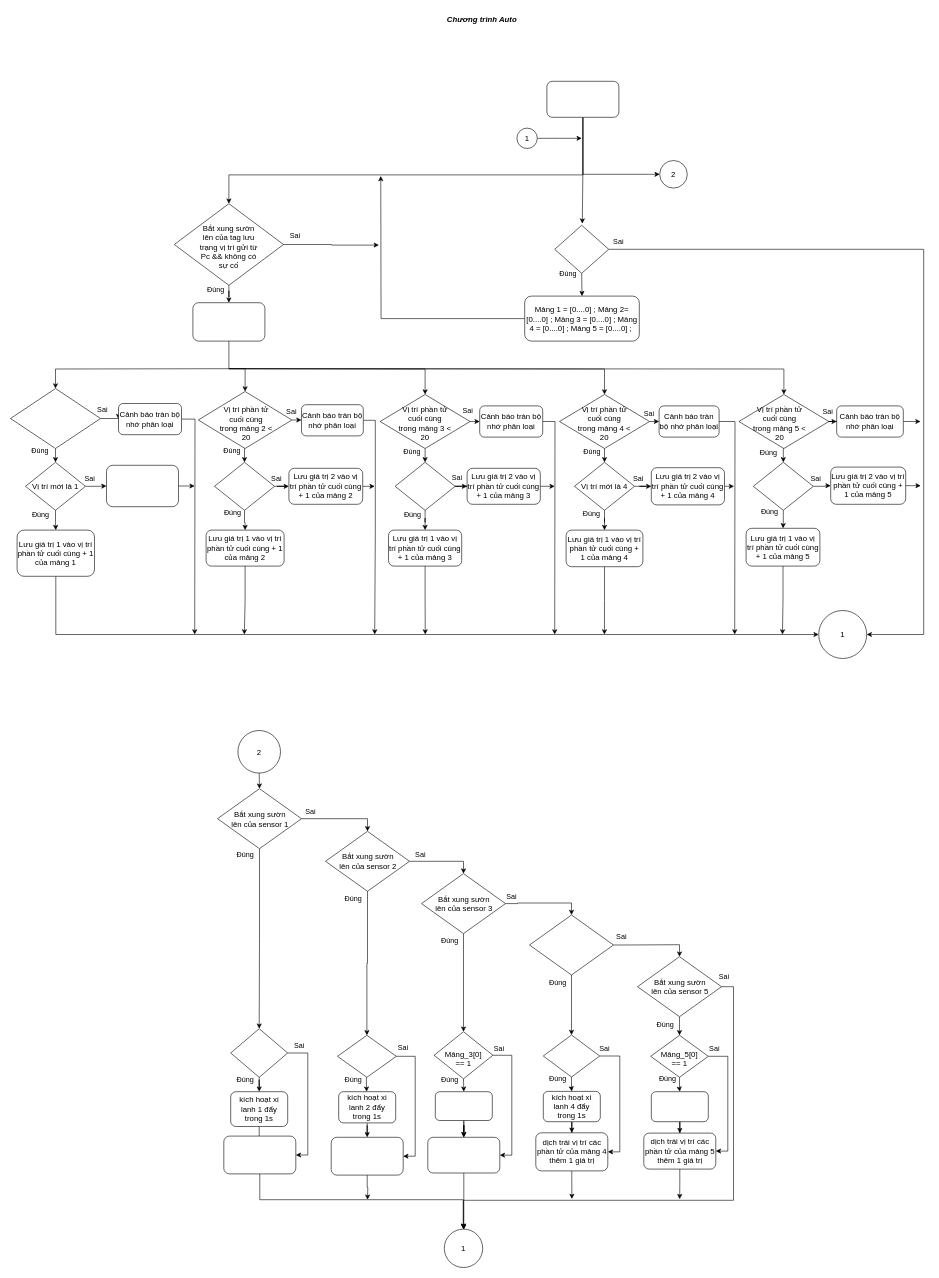
This 939x1278 diagram has some shape labels left out. The centre of each missing label's shape, as x and y in pixels:
"Bắt xung sườn lên của sensor 4" belongs at pixel 571 944.
"dịch trái vị trí các phần tử của mảng 1 thêm 1 giá trị" belongs at pixel 259 1155.
"dịch trái vị trí các phần tử của mảng 2 thêm 1 giá trị" belongs at pixel 367 1156.
"dịch trái vị trí các phần tử của mảng 3 thêm 1 giá trị" belongs at pixel 463 1155.
"kích hoạt xi lanh 3 đẩy trong 1s" belongs at pixel 463 1105.
"kích hoạt xi lanh 5 đẩy trong 1s" belongs at pixel 679 1106.
"Lưu giá trị 2 vào vị trí phần tử cuối cùng + 1 của mảng 1" belongs at pixel 142 486.
"mảng 1 --> mảng 5" belongs at pixel 582 99.
"Mảng_1[0] == 1" belongs at pixel 259 1052.
"Mảng_2[0] == 1" belongs at pixel 366 1056.
"Mảng_4[0] == 1" belongs at pixel 571 1055.
"Reset dữ liệu" belongs at pixel 581 249.
"Tìm vị trí phần tử 1 hoặc 2 cuối cùng trong mảng của các mảng" belongs at pixel 228 321.
"Vị trí mới là 2" belongs at pixel 244 486.
"Vị trí mới là 3" belongs at pixel 424 486.
"Vị trí mới là 5" belongs at pixel 783 486.
"Vị trí phần tử cuối cùng trong mảng 1 < 20" belongs at pixel 55 418.
